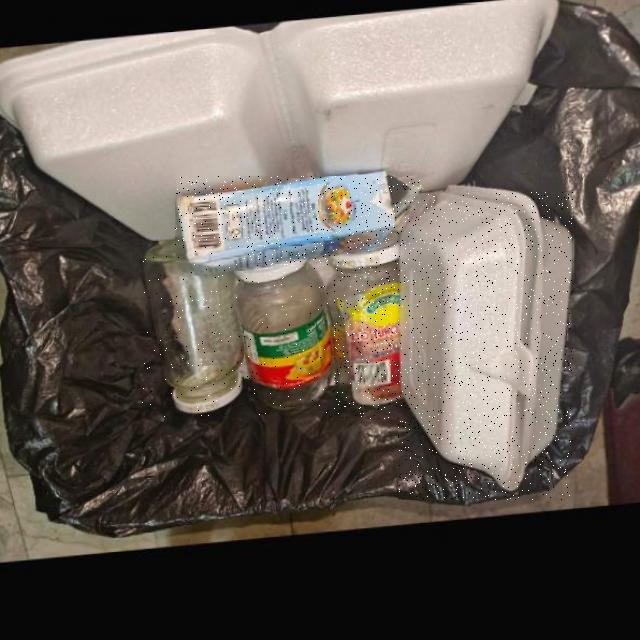glass: (142, 241, 244, 418), (232, 265, 334, 414), (326, 239, 401, 418)
paper: (176, 176, 422, 274)
styrofoam: (0, 4, 559, 246), (399, 192, 573, 499)
